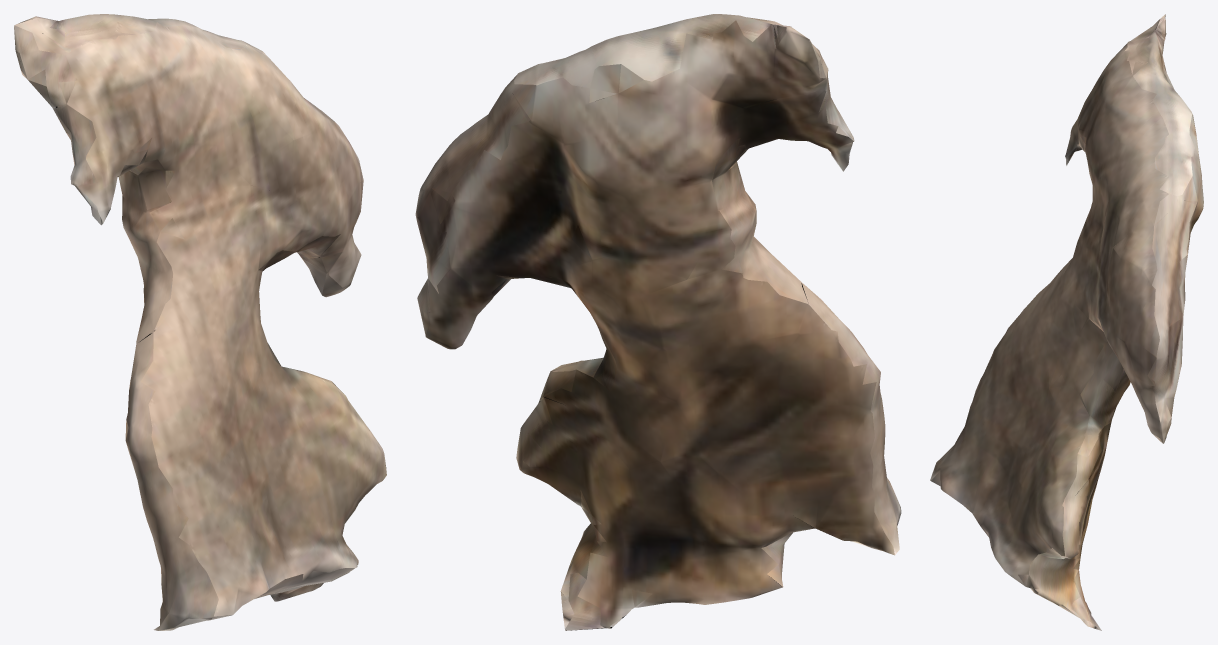
3 views of the same model, side by side, from view 1: azimuth 30°, elevation 25°; view 2: azimuth 150°, elevation 25°; view 3: azimuth 270°, elevation 25° (orthographic). The views are drawn at different scales.
Visible parts, largest first — view 1: world; view 2: world; view 3: world.
Boxes of the visible parts, box(x1,y1,x2,y2) form: world: box(14, 14, 386, 630); world: box(415, 14, 901, 630); world: box(930, 14, 1203, 630).
Bounding box in the file's own units: 0.2918 × 0.487 × 0.2338.
1 material, 1 textured.
